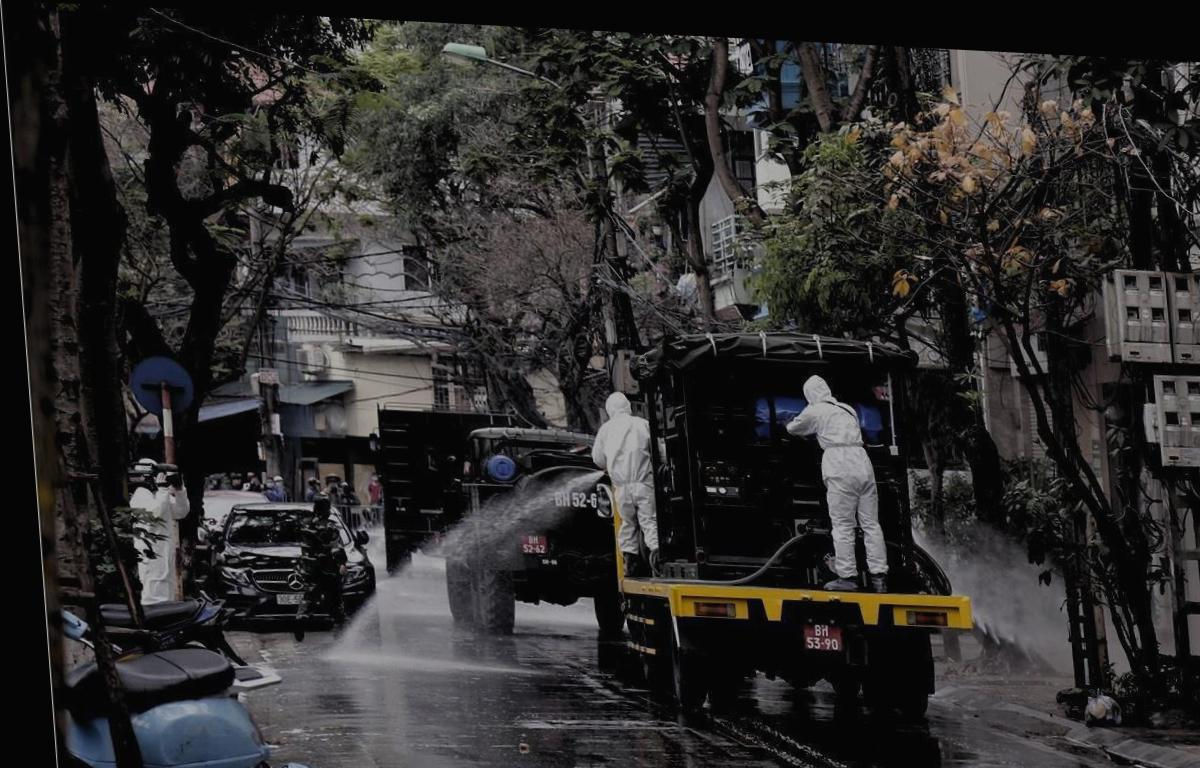License_Plate: (799, 621, 851, 659), (274, 590, 319, 616), (515, 530, 550, 557)
